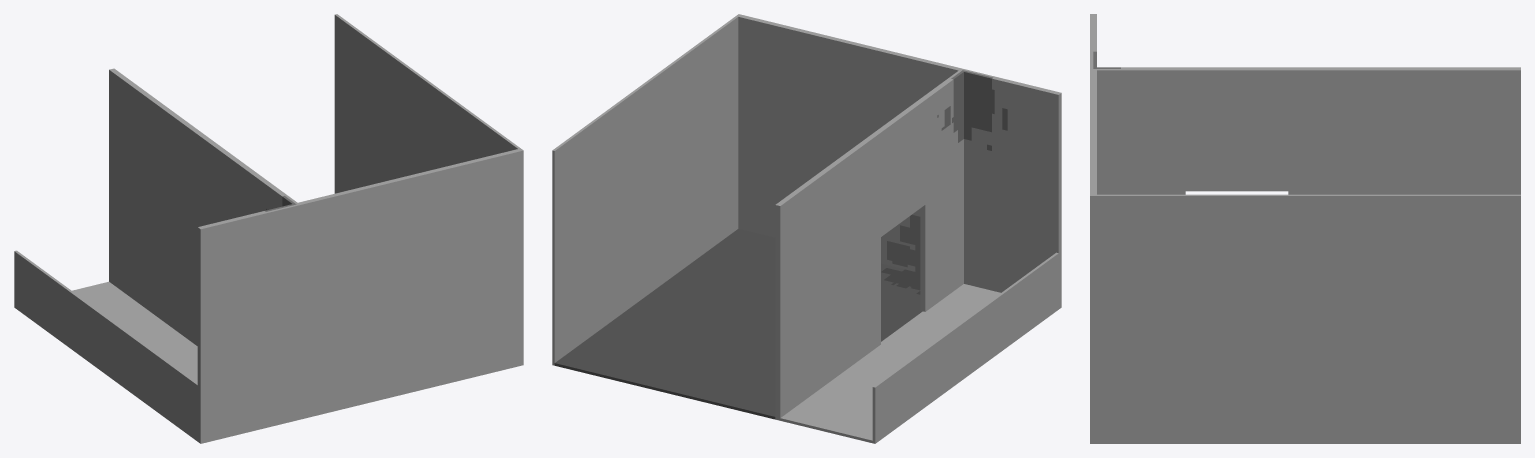
The model's file is 4x2 second (1)-1.obj.
3 views of the same model, side by side, from view 1: azimuth 30°, elevation 25°; view 2: azimuth 150°, elevation 25°; view 3: azimuth 270°, elevation 25° (orthographic). The views are drawn at different scales.
Visible parts, largest first — view 1: 4x2 second (1)-1; view 2: 4x2 second (1)-1; view 3: 4x2 second (1)-1.
Boxes of the visible parts, left/top/right/bottom form: 4x2 second (1)-1: left=14, top=14, right=523, bottom=443; 4x2 second (1)-1: left=552, top=14, right=1061, bottom=443; 4x2 second (1)-1: left=1090, top=14, right=1520, bottom=443.
Size of the model in its own units: 126 by 80 by 126.
1 material, 1 textured.
